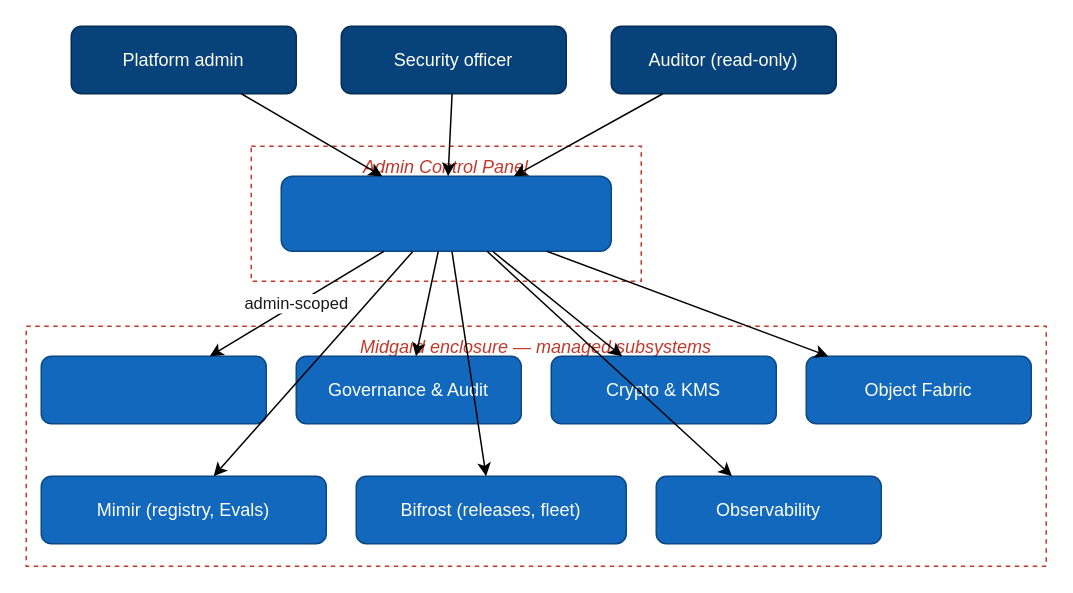
This 1073x593 diagram has some shape labels left out. The shapes that lost their labels are listed below. From the top down, each one's centre as x and y in pixels, then its label:
At point 445,213: "Unified console (web+desktop)".
At point 153,389: "Identity & Access".
